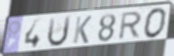4: (23, 19, 42, 50)
8: (96, 12, 118, 44)
K: (71, 15, 93, 45)
O: (143, 7, 169, 40)
R: (117, 10, 144, 42)
U: (46, 15, 72, 49)
